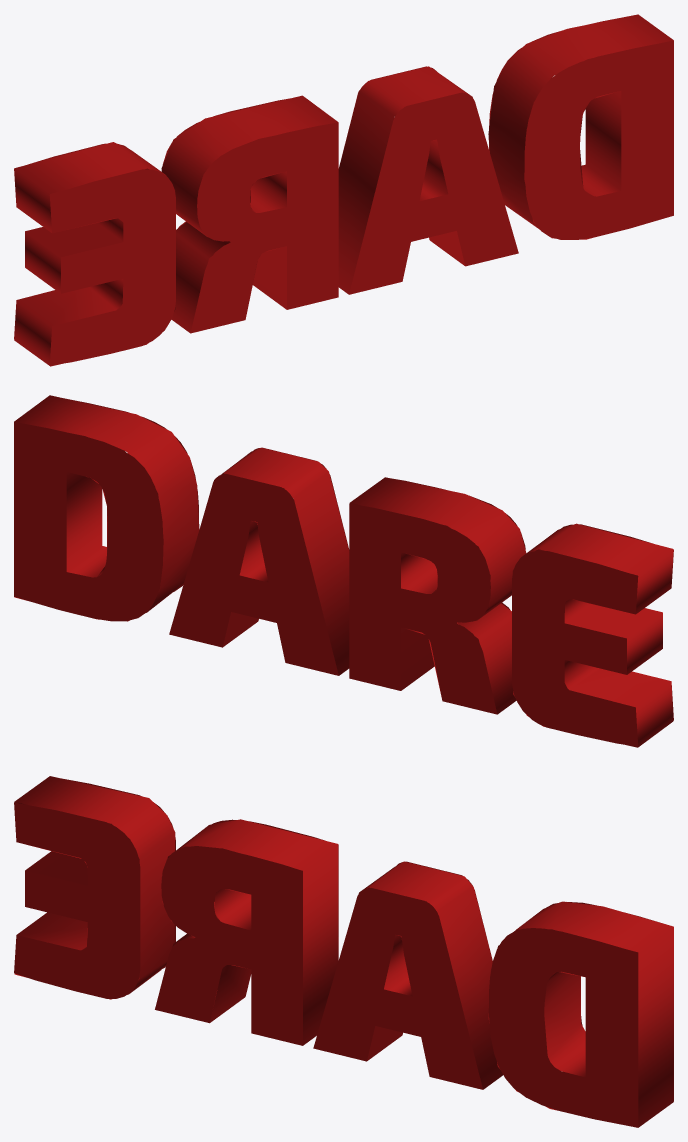
File: dare.fbx
3 renders of one model, top to bottom at view 1: azimuth 30°, elevation 25°; view 2: azimuth 150°, elevation 25°; view 3: azimuth 330°, elevation 25°, orthographic.
Parts seen in each view (by area): view 1: Text; view 2: Text; view 3: Text.
Part boxes in pixels (x1,y1,x2,y2): Text: (14, 14, 673, 366); Text: (14, 395, 673, 747); Text: (14, 776, 673, 1127).
Bounding box in the file's own units: 8.07 × 2.23 × 0.8.
